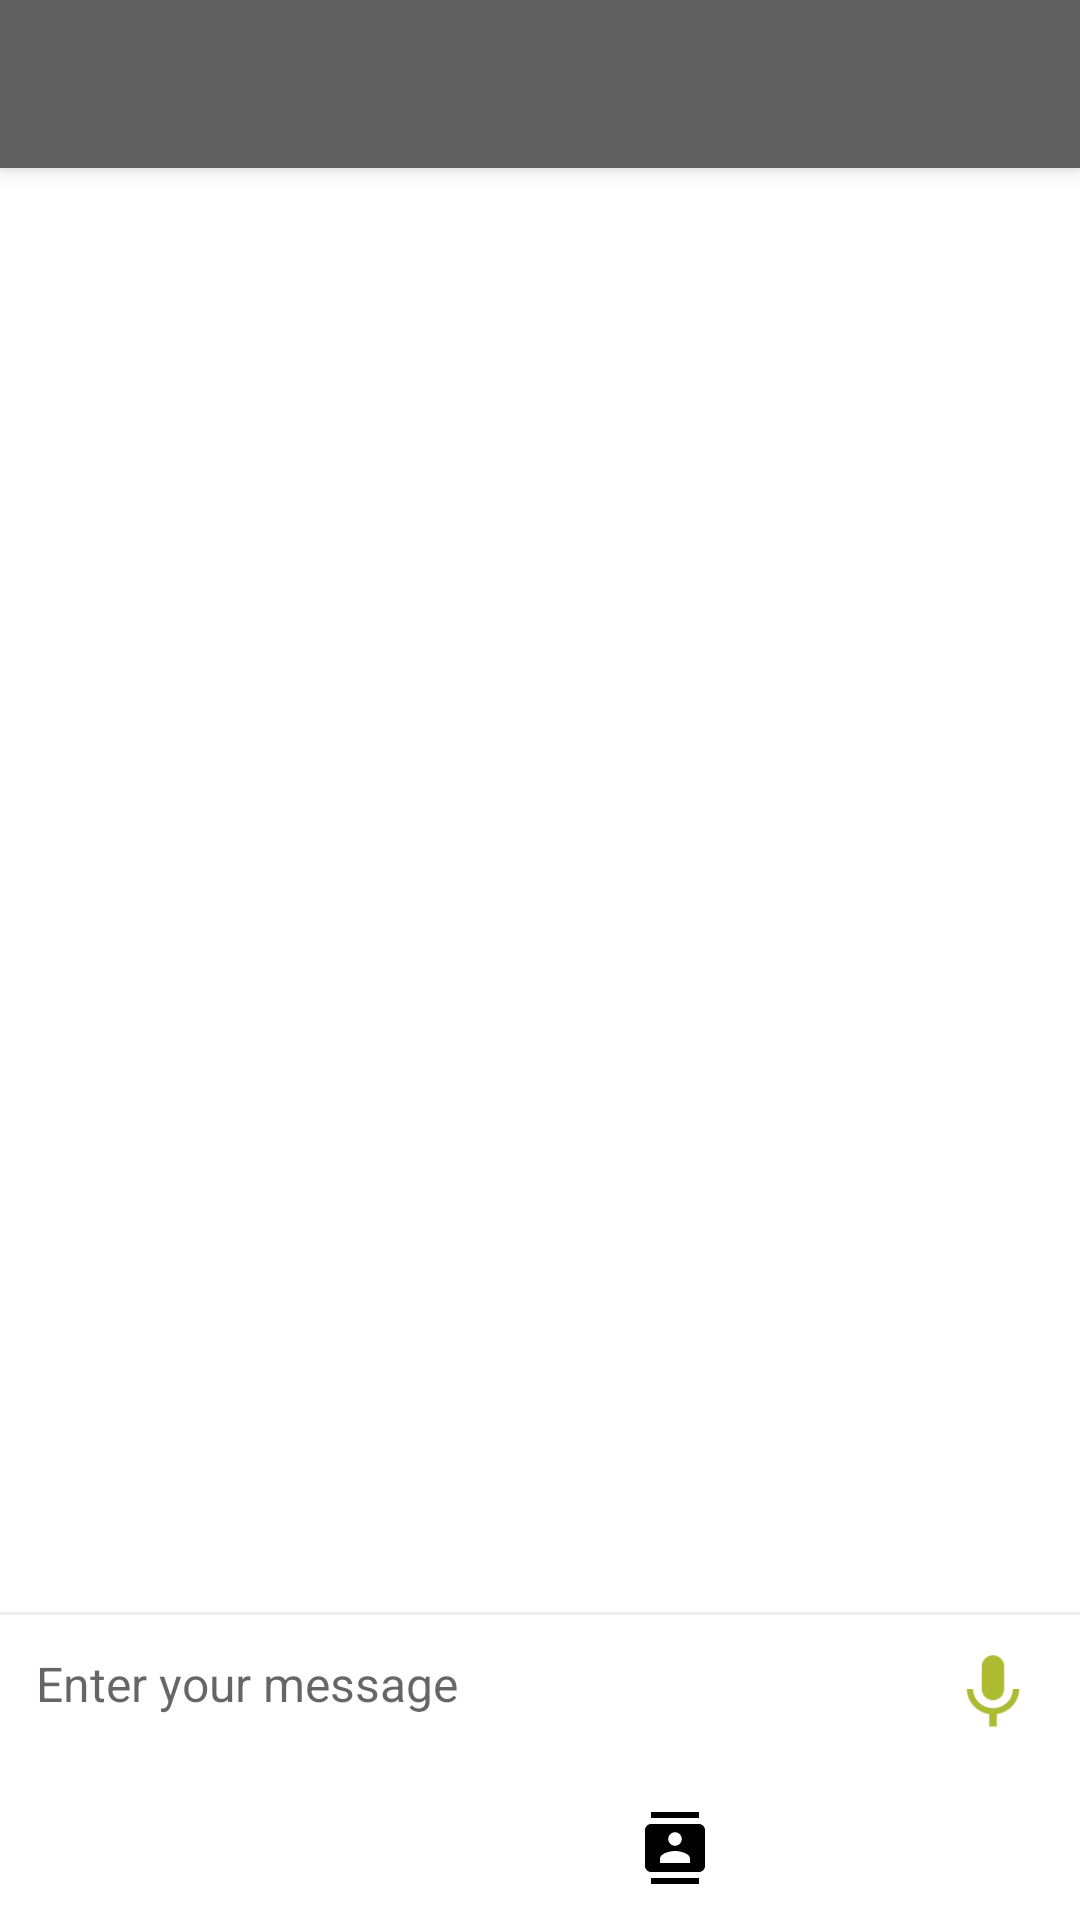

Icons on this 1080 x 1920 Android screen, each with the point to tap as (x,y):
contacts: (675,1848)
mic: (993,1691)
